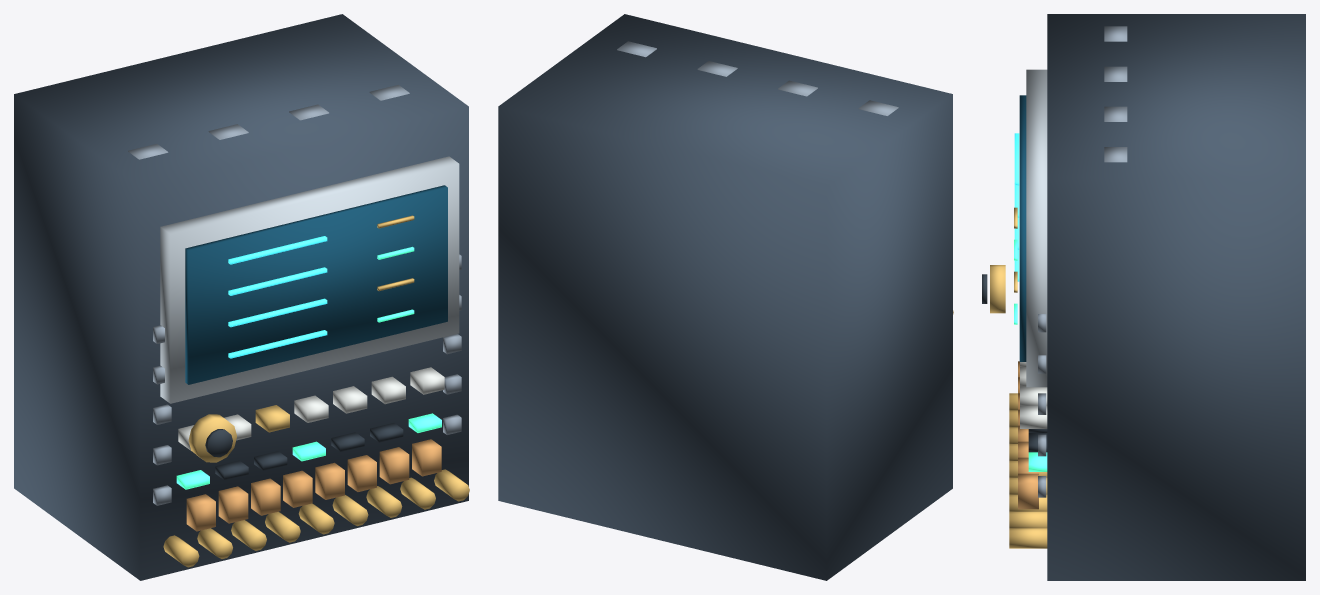
The model's file is 79_L88_OxygenCO2TelemetryGateway.fbx.
The picture shows the model from 3 angles, left to right: view 1: azimuth 30°, elevation 25°; view 2: azimuth 150°, elevation 25°; view 3: azimuth 270°, elevation 25°; orthographic projection. The views are drawn at different scales.
Visible parts, largest first — view 1: L87_OxygenCO2TelemetryGateway_Part_0000, L87_OxygenCO2TelemetryGateway_Part_0002, L87_OxygenCO2TelemetryGateway_Part_0001, L87_OxygenCO2TelemetryGateway_Part_0009, L87_OxygenCO2TelemetryGateway_Part_0004, L87_OxygenCO2TelemetryGateway_Part_0008, L87_OxygenCO2TelemetryGateway_Part_0006, L87_OxygenCO2TelemetryGateway_Part_0003, L87_OxygenCO2TelemetryGateway_Part_0007, L87_OxygenCO2TelemetryGateway_Part_0005, L87_OxygenCO2TelemetryGateway_Part_0010, L87_OxygenCO2TelemetryGateway_Part_0011; view 2: L87_OxygenCO2TelemetryGateway_Part_0000, L87_OxygenCO2TelemetryGateway_Part_0008; view 3: L87_OxygenCO2TelemetryGateway_Part_0000, L87_OxygenCO2TelemetryGateway_Part_0001, L87_OxygenCO2TelemetryGateway_Part_0004, L87_OxygenCO2TelemetryGateway_Part_0008, L87_OxygenCO2TelemetryGateway_Part_0002, L87_OxygenCO2TelemetryGateway_Part_0009, L87_OxygenCO2TelemetryGateway_Part_0006, L87_OxygenCO2TelemetryGateway_Part_0010, L87_OxygenCO2TelemetryGateway_Part_0003, L87_OxygenCO2TelemetryGateway_Part_0005.
Boxes of the visible parts, x1=… form: L87_OxygenCO2TelemetryGateway_Part_0000: x1=14, y1=14, x2=468, y2=580; L87_OxygenCO2TelemetryGateway_Part_0002: x1=185, y1=185, x2=447, y2=384; L87_OxygenCO2TelemetryGateway_Part_0001: x1=160, y1=156, x2=459, y2=403; L87_OxygenCO2TelemetryGateway_Part_0009: x1=186, y1=439, x2=441, y2=531; L87_OxygenCO2TelemetryGateway_Part_0004: x1=163, y1=215, x2=469, y2=567; L87_OxygenCO2TelemetryGateway_Part_0008: x1=128, y1=85, x2=461, y2=505; L87_OxygenCO2TelemetryGateway_Part_0006: x1=178, y1=367, x2=444, y2=450; L87_OxygenCO2TelemetryGateway_Part_0003: x1=228, y1=236, x2=327, y2=358; L87_OxygenCO2TelemetryGateway_Part_0007: x1=215, y1=423, x2=403, y2=480; L87_OxygenCO2TelemetryGateway_Part_0005: x1=176, y1=246, x2=441, y2=489; L87_OxygenCO2TelemetryGateway_Part_0010: x1=188, y1=414, x2=236, y2=462; L87_OxygenCO2TelemetryGateway_Part_0011: x1=205, y1=429, x2=232, y2=457; L87_OxygenCO2TelemetryGateway_Part_0000: x1=498, y1=14, x2=952, y2=580; L87_OxygenCO2TelemetryGateway_Part_0008: x1=617, y1=41, x2=898, y2=115; L87_OxygenCO2TelemetryGateway_Part_0000: x1=1047, y1=14, x2=1305, y2=580; L87_OxygenCO2TelemetryGateway_Part_0001: x1=1026, y1=69, x2=1047, y2=387; L87_OxygenCO2TelemetryGateway_Part_0004: x1=1009, y1=207, x2=1047, y2=548; L87_OxygenCO2TelemetryGateway_Part_0008: x1=1038, y1=26, x2=1127, y2=497; L87_OxygenCO2TelemetryGateway_Part_0002: x1=1019, y1=95, x2=1026, y2=361; L87_OxygenCO2TelemetryGateway_Part_0009: x1=1018, y1=361, x2=1038, y2=509; L87_OxygenCO2TelemetryGateway_Part_0006: x1=1020, y1=362, x2=1047, y2=428; L87_OxygenCO2TelemetryGateway_Part_0010: x1=990, y1=265, x2=1005, y2=313; L87_OxygenCO2TelemetryGateway_Part_0003: x1=1014, y1=133, x2=1019, y2=281; L87_OxygenCO2TelemetryGateway_Part_0005: x1=1014, y1=239, x2=1047, y2=471.
Bounding box in the file's own units: 1.04 × 1.2 × 0.8688.
